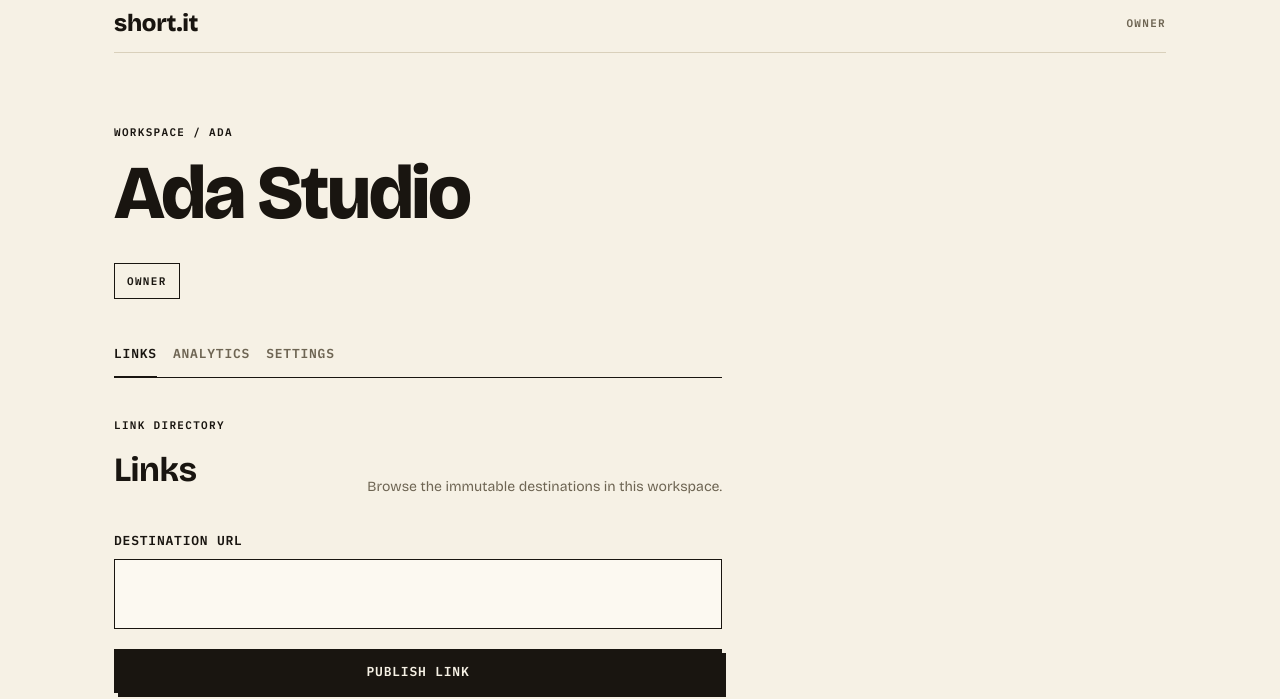
Test: App › lets an owner cancel a listed invitation
This screenshot has width=1280, height=699.
Click the link "Settings": (300, 354) [266, 345, 335, 362]
(page scrolled)
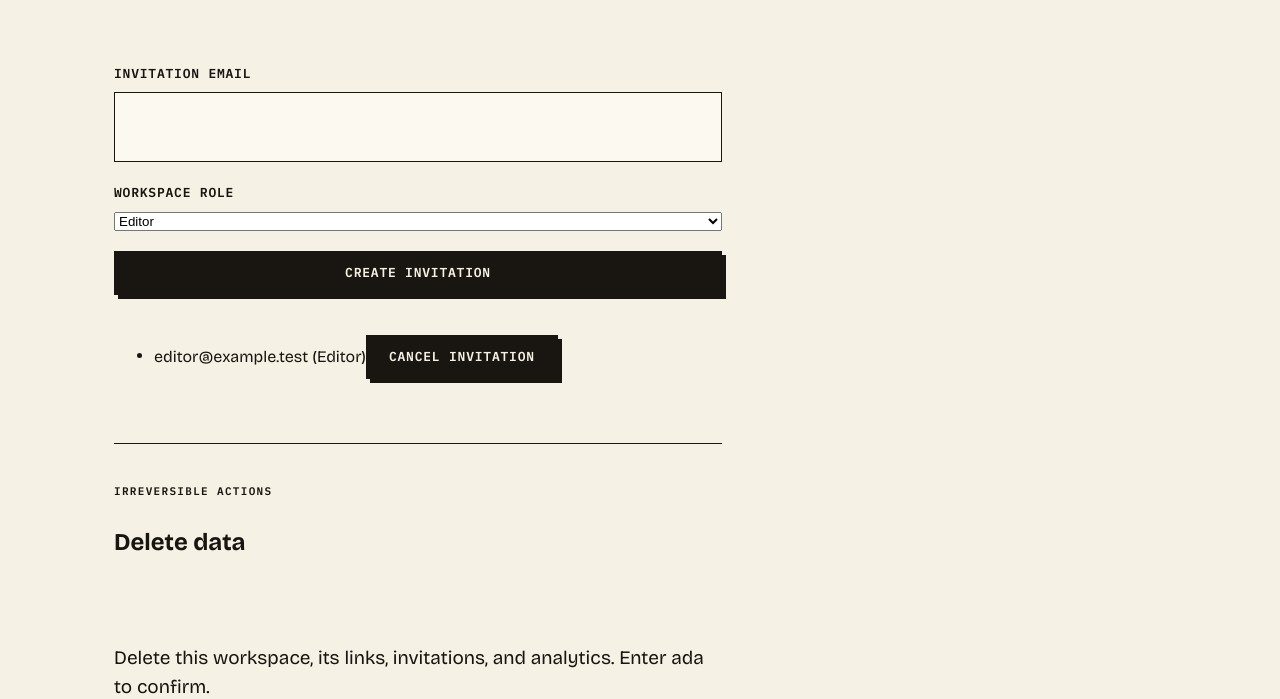
Result: the list item "editor@example.test (Editor)" is shown at [154, 335, 558, 379]
Click the button "Cancel invitation": (462, 357) [366, 335, 558, 379]
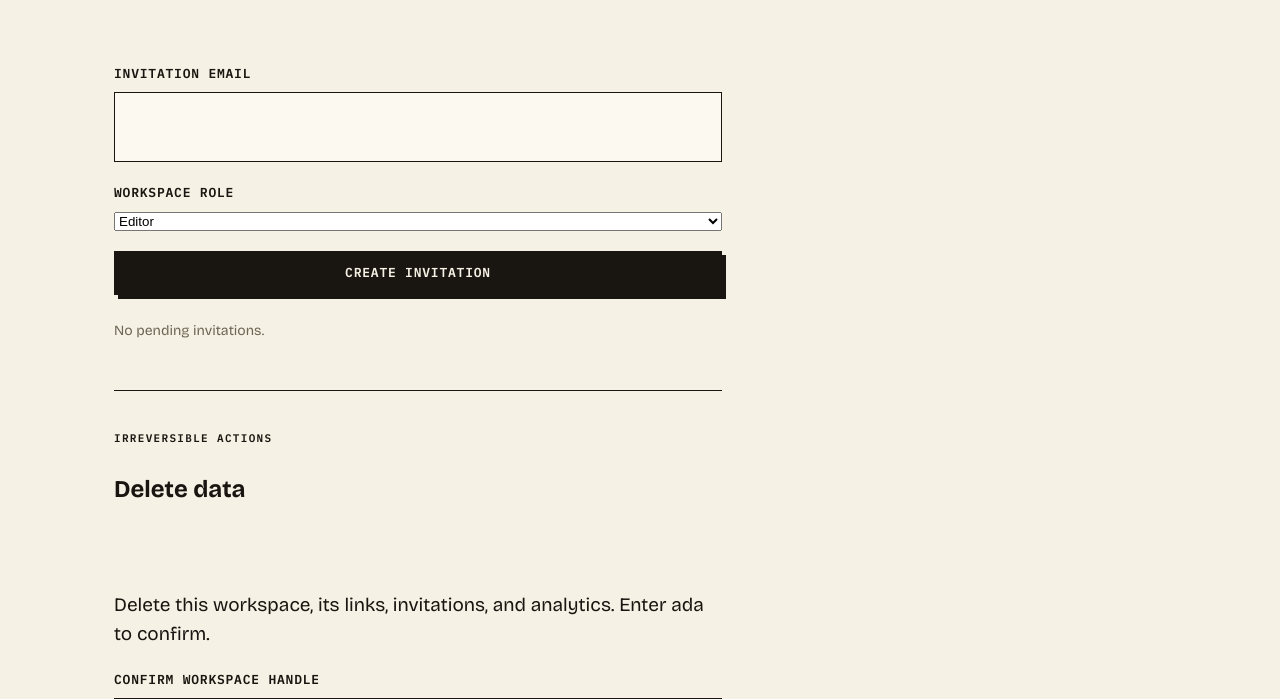
Result: the text "No pending invitations." is shown at [114, 322, 264, 339]
